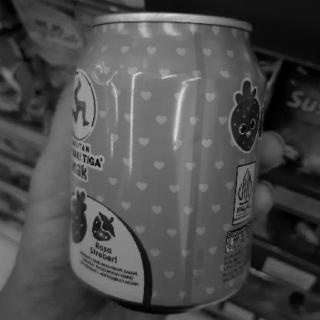alumunium_can: (66, 7, 264, 310)
